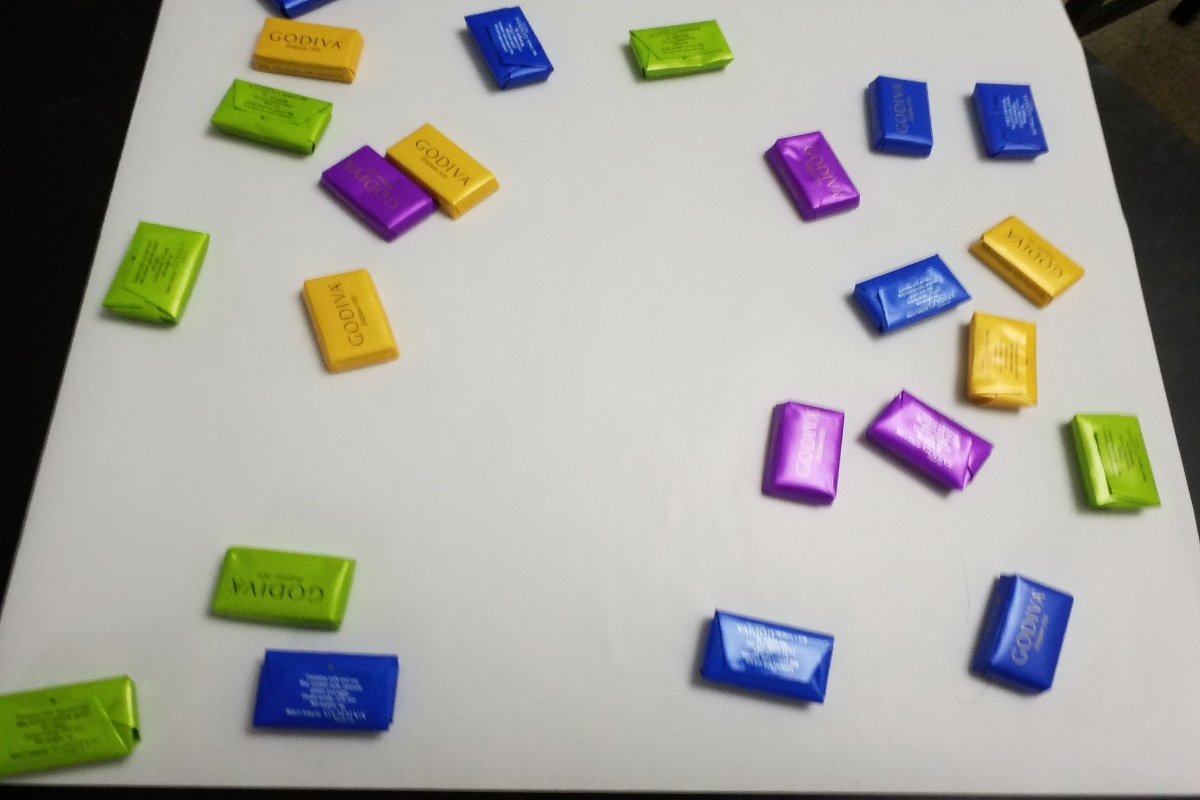chocolate_blue: (700, 601, 840, 716), (236, 648, 405, 740), (972, 566, 1074, 709), (843, 247, 974, 344), (454, 7, 563, 97), (967, 78, 1052, 180), (857, 67, 936, 168)
chocolate_green: (197, 534, 365, 641), (1061, 399, 1164, 526), (109, 210, 213, 333), (209, 78, 335, 158), (617, 10, 741, 90)
chocolate_purple: (858, 392, 998, 504), (750, 128, 868, 237), (752, 388, 853, 512)
chocolate_yellow: (965, 212, 1090, 315), (295, 269, 407, 383), (959, 314, 1043, 414), (243, 20, 370, 86)
